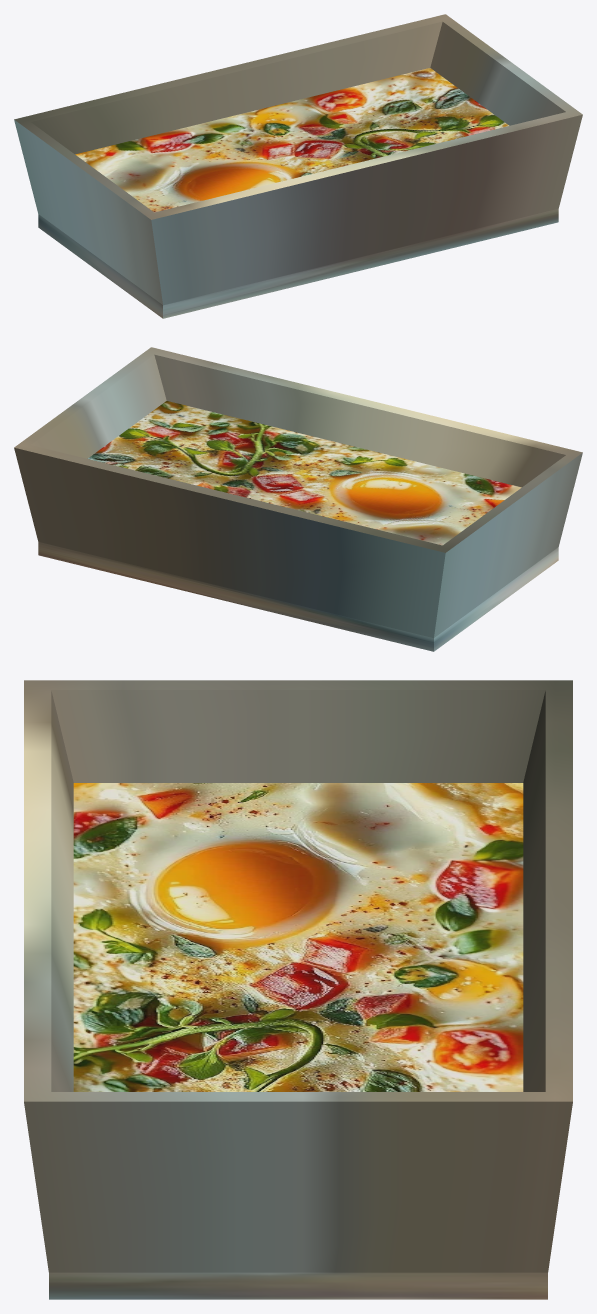
The model's file is egg.fbx.
The picture shows the model from 3 angles, top to bottom: view 1: azimuth 30°, elevation 25°; view 2: azimuth 150°, elevation 25°; view 3: azimuth 270°, elevation 25°; orthographic projection. The views are drawn at different scales.
Visible parts, largest first — view 1: Cube; view 2: Cube; view 3: Cube.
Part boxes in pixels (<box>): Cube: <box>14,14,582,318</box>; Cube: <box>14,347,582,651</box>; Cube: <box>24,680,572,1299</box>.
Size of the model in its own units: 71.88 by 17.16 by 39.6.
